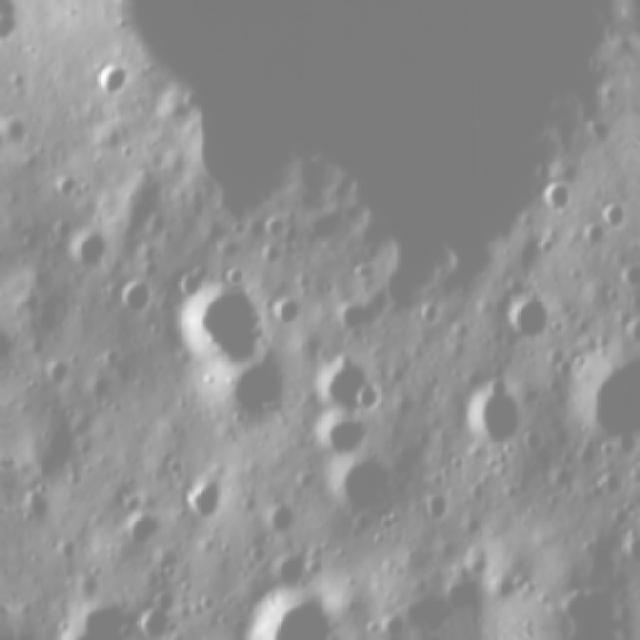crater: (162, 279, 267, 383), (571, 351, 640, 458), (216, 355, 293, 434), (234, 587, 343, 640), (450, 381, 525, 453), (334, 450, 394, 516), (552, 584, 636, 622), (504, 286, 547, 354), (308, 361, 372, 405), (53, 606, 133, 640), (308, 415, 377, 453), (106, 278, 152, 327), (62, 230, 113, 273), (441, 576, 484, 618), (189, 476, 225, 524), (94, 57, 131, 101), (142, 588, 175, 637), (126, 516, 166, 556), (357, 610, 418, 636), (603, 492, 640, 530), (269, 551, 308, 587), (0, 114, 31, 154), (265, 499, 298, 536), (270, 293, 305, 327), (421, 488, 453, 524), (512, 428, 550, 458), (86, 378, 125, 407), (577, 221, 609, 254), (52, 170, 82, 204), (42, 354, 72, 388), (542, 183, 572, 215), (615, 528, 640, 566), (22, 491, 52, 522), (44, 217, 76, 245), (342, 304, 376, 330), (238, 544, 270, 570), (582, 120, 612, 146), (357, 386, 388, 411), (604, 197, 628, 228), (262, 213, 289, 238), (261, 244, 287, 267), (308, 556, 328, 581), (8, 69, 30, 91), (314, 278, 337, 298), (57, 538, 75, 562), (536, 238, 558, 257), (120, 492, 143, 510), (601, 83, 619, 105), (550, 315, 562, 343), (118, 144, 133, 162)
